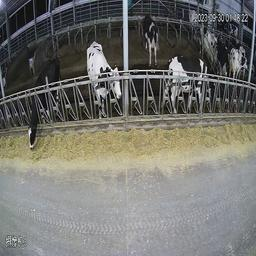cow: (28, 55, 61, 152), (173, 51, 222, 109), (88, 39, 122, 113), (141, 10, 159, 67), (198, 19, 217, 59), (230, 44, 248, 78), (187, 4, 196, 35)
